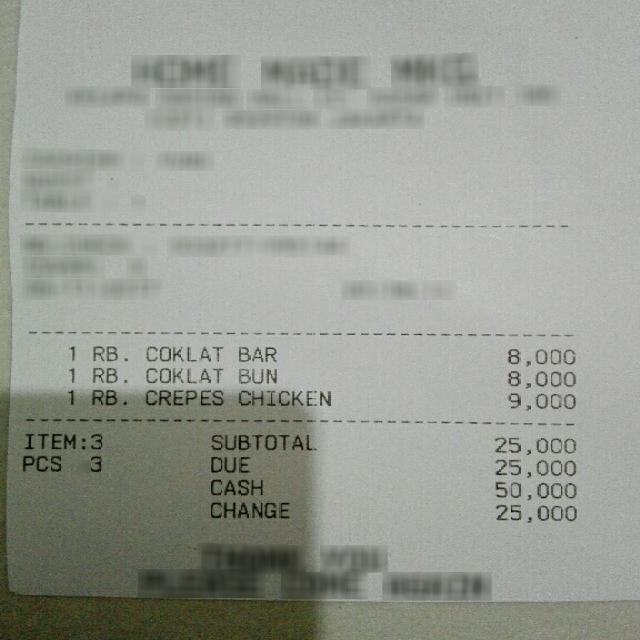kertas: (7, 0, 637, 601)
